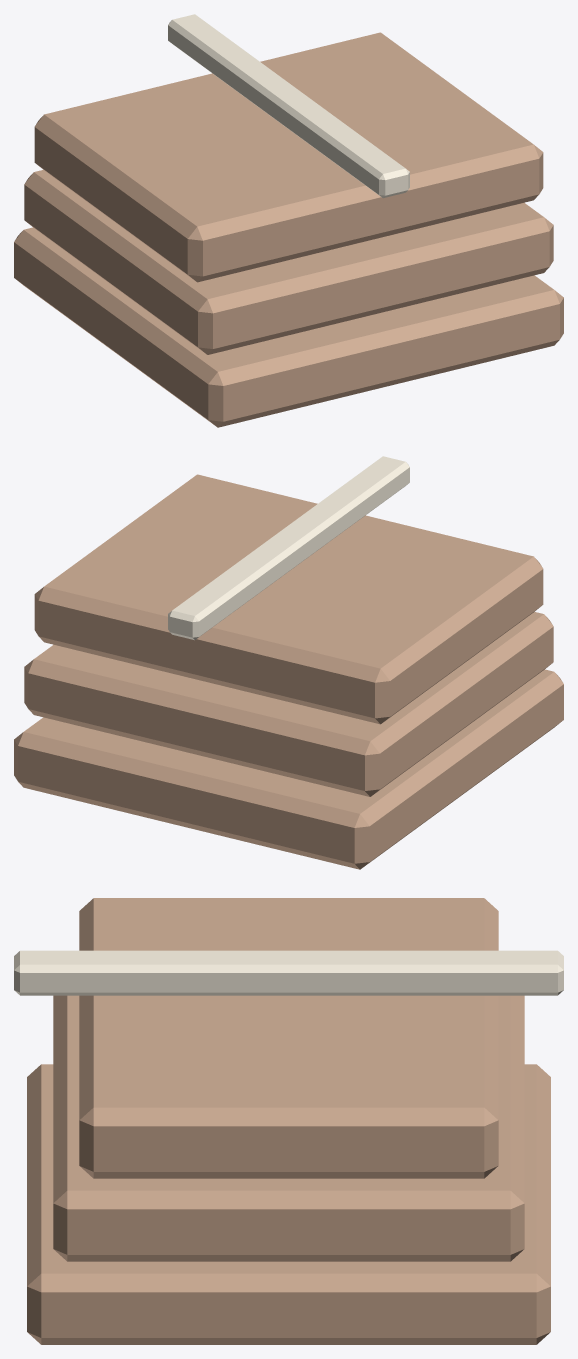
Rendered from cargo_leather.fbx.
The picture shows the model from 3 angles, top to bottom: view 1: azimuth 30°, elevation 25°; view 2: azimuth 150°, elevation 25°; view 3: azimuth 270°, elevation 25°; orthographic projection. The views are drawn at different scales.
Parts seen in each view (by area): view 1: cargo_leather_mesh; view 2: cargo_leather_mesh; view 3: cargo_leather_mesh.
Part boxes in pixels (<box>): cargo_leather_mesh: <box>14,14,563,427</box>; cargo_leather_mesh: <box>14,456,563,869</box>; cargo_leather_mesh: <box>14,898,563,1344</box>.
Size of the model in its own units: 0.4 by 0.238 by 0.42.
